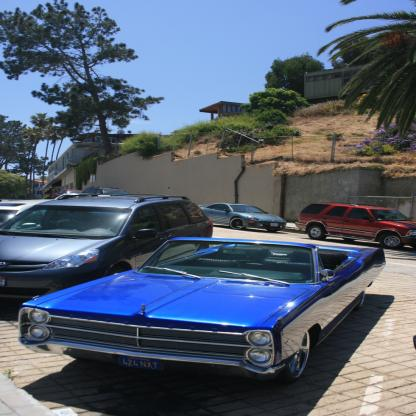Car: (15, 239, 386, 382), (1, 195, 215, 309), (204, 204, 290, 232), (82, 187, 135, 197), (54, 190, 87, 199)
